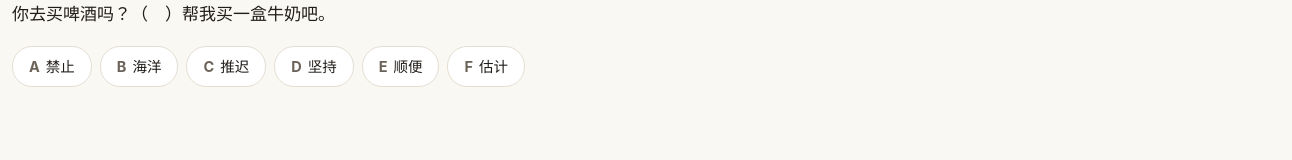
Test: FillBlankQuestionComponent › greens the right chip
Click the button with class "bankchip" showing "E顺便": (400, 66) left=362, top=46, right=439, bottom=87
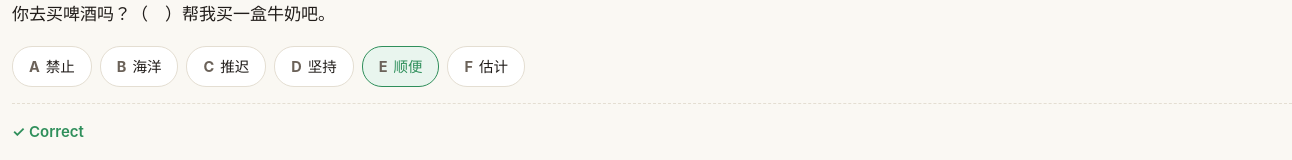
Result: the text with class "good" shows "Correct" at left=12, top=122, right=84, bottom=141
